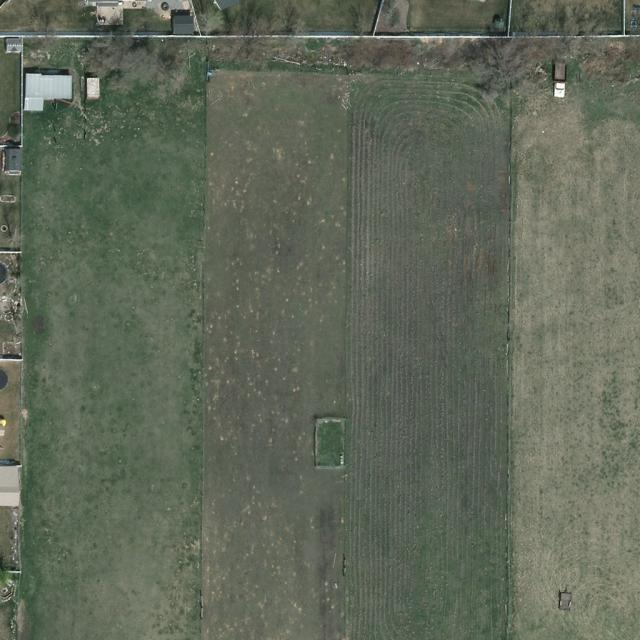vehicle: (552, 64, 567, 98)
